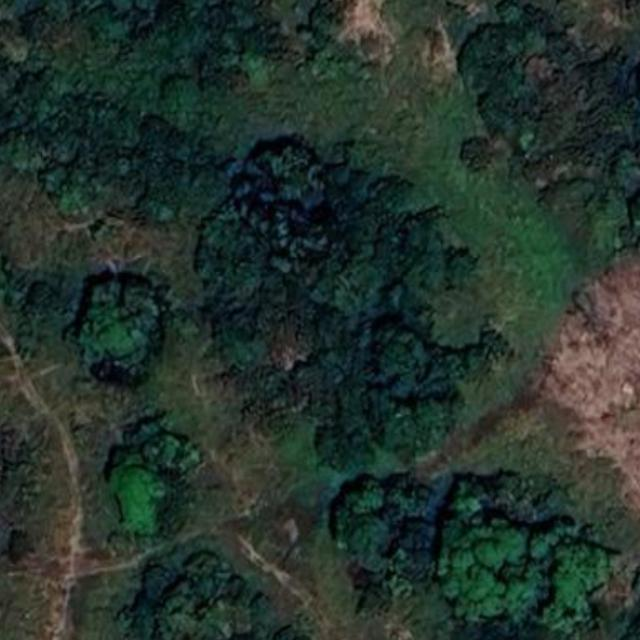Tree: (14, 83, 187, 240), (444, 522, 548, 624), (74, 272, 166, 386), (245, 132, 331, 248), (389, 227, 468, 313), (195, 210, 268, 293), (368, 316, 432, 398), (110, 460, 172, 542), (387, 392, 457, 464), (156, 577, 234, 640), (422, 287, 495, 353), (318, 412, 389, 478), (294, 333, 365, 395), (210, 289, 267, 360), (334, 196, 394, 262), (324, 260, 392, 318), (350, 510, 398, 572), (487, 471, 550, 512), (380, 473, 430, 521), (336, 478, 382, 520), (144, 428, 183, 476), (614, 140, 640, 204), (397, 512, 429, 558), (372, 175, 413, 206), (250, 594, 276, 638), (449, 488, 482, 522), (466, 134, 494, 172), (146, 562, 172, 602), (187, 550, 216, 580)
